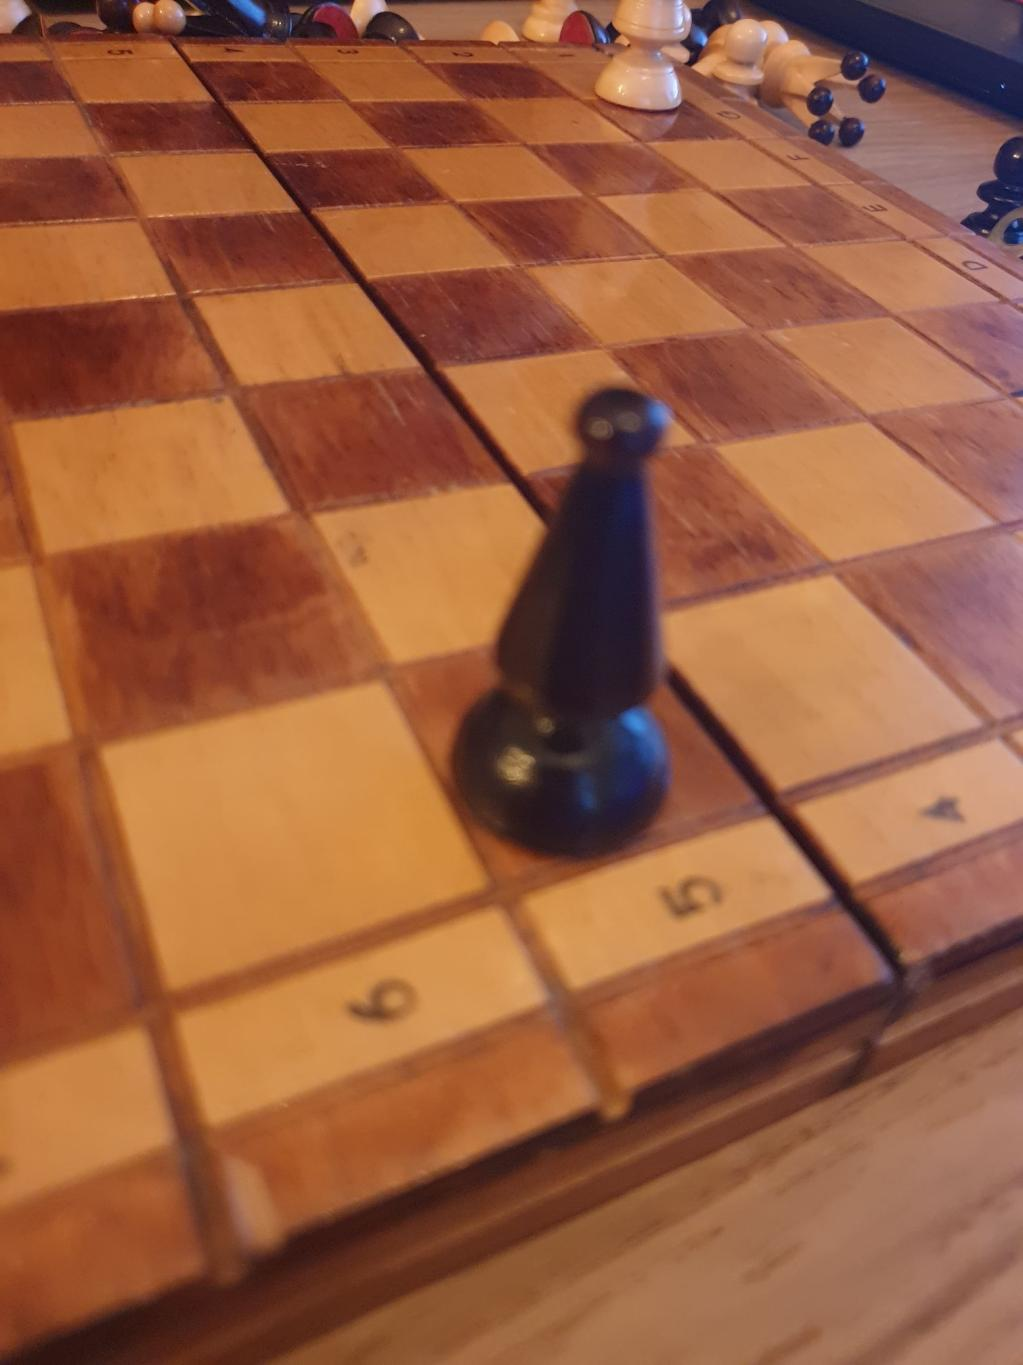bbishop: (450, 387, 674, 859)
